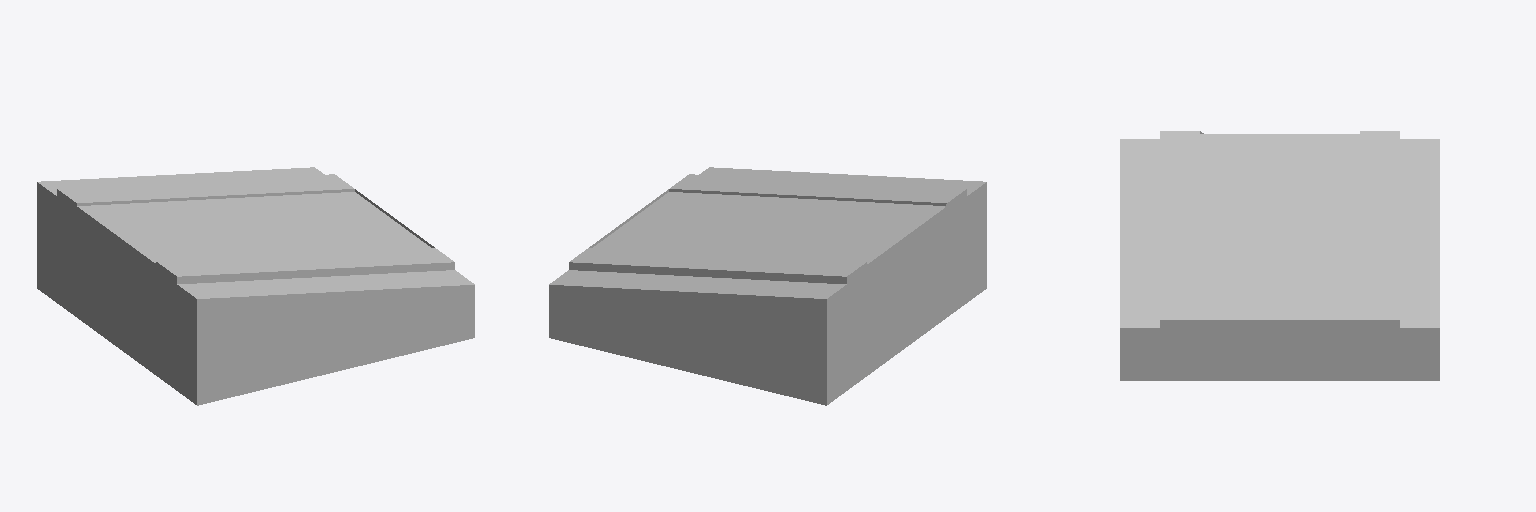
Rendered from roadTile_192.obj.
The picture shows the model from 3 angles: view 1: azimuth 30°, elevation 25°; view 2: azimuth 150°, elevation 25°; view 3: azimuth 270°, elevation 25°; orthographic projection.
Parts seen in each view (by area): view 1: Mesh1 Group1 Model; view 2: Mesh1 Group1 Model; view 3: Mesh1 Group1 Model.
Part boxes in pixels (left/top/right/bottom): Mesh1 Group1 Model: left=37, top=167, right=474, bottom=405; Mesh1 Group1 Model: left=549, top=167, right=986, bottom=405; Mesh1 Group1 Model: left=1120, top=131, right=1439, bottom=380.
Size of the model in its own units: 3 by 1.18 by 3.